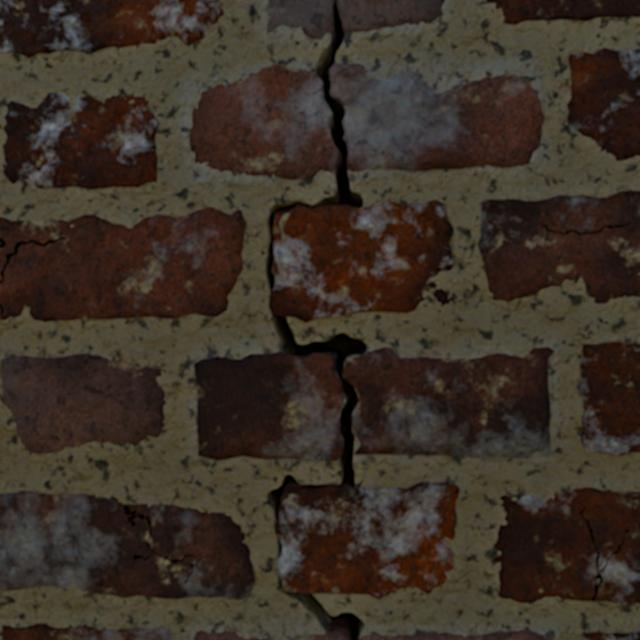broken_brick: (344, 347, 553, 458), (330, 63, 544, 171), (189, 64, 337, 179), (194, 352, 343, 460), (337, 0, 444, 32), (267, 0, 333, 38), (359, 630, 550, 639), (195, 631, 246, 639), (292, 633, 344, 639)
crack: (265, 0, 459, 639), (0, 207, 246, 321), (0, 491, 254, 598), (478, 190, 639, 303), (494, 487, 639, 603), (1, 354, 165, 453), (3, 93, 159, 188), (0, 0, 223, 57), (567, 48, 639, 160), (578, 342, 639, 455), (487, 0, 639, 24), (2, 624, 170, 639), (583, 631, 639, 639), (266, 26, 269, 34)
